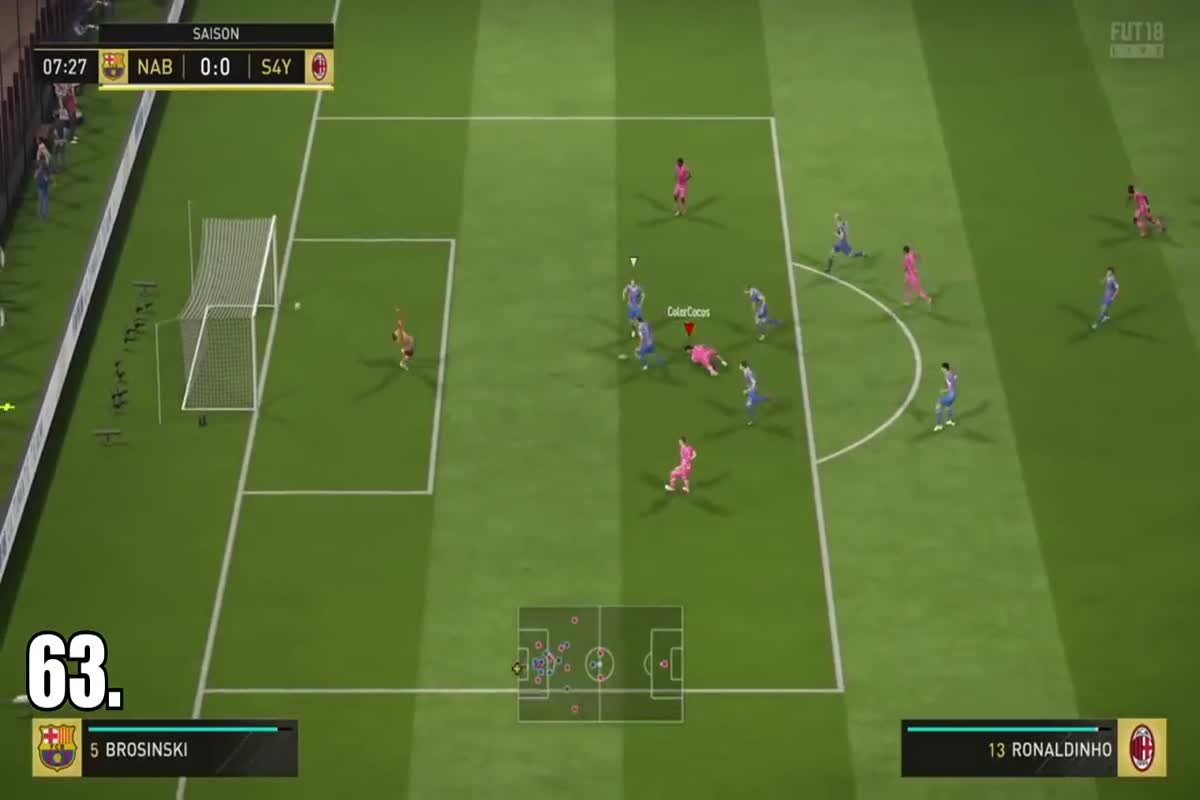ball: (286, 294, 314, 315)
